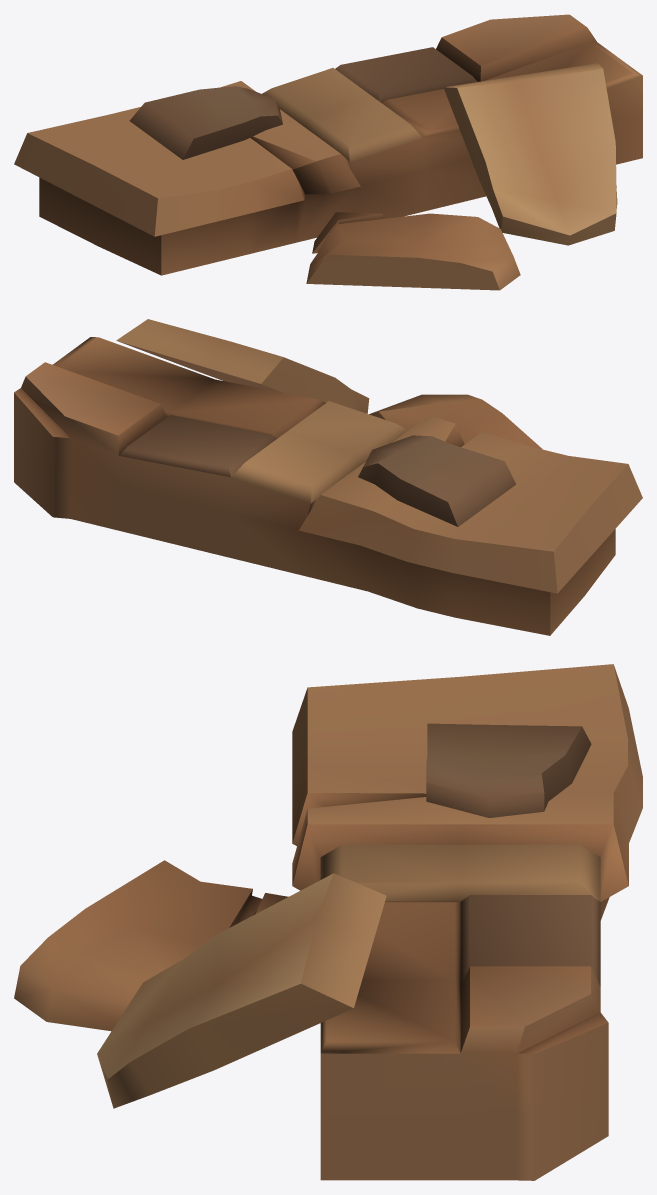
File: buildings-ruins-templeruins_v3.glb
3 renders of one model, top to bottom at view 1: azimuth 30°, elevation 25°; view 2: azimuth 150°, elevation 25°; view 3: azimuth 270°, elevation 25°, orthographic. The views are drawn at different scales.
Visible parts, largest first — view 1: TempleRuins_v3; view 2: TempleRuins_v3; view 3: TempleRuins_v3.
Part boxes in pixels (left/top/right/bottom): TempleRuins_v3: left=14, top=14, right=642, bottom=290; TempleRuins_v3: left=14, top=319, right=642, bottom=635; TempleRuins_v3: left=14, top=664, right=642, bottom=1180.
Size of the model in its own units: 4.79 by 0.9627 by 3.21.
